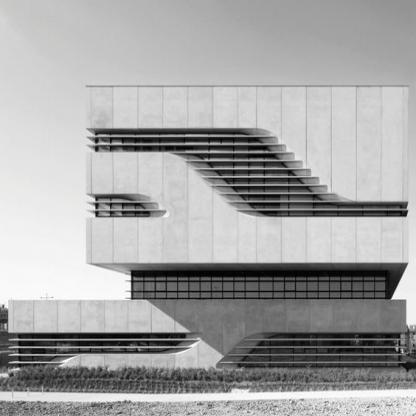Building Outline: (7, 85, 409, 384)
Facade: (7, 85, 410, 386)
Glass Wall: (95, 133, 401, 216), (131, 271, 387, 300), (18, 334, 184, 374), (239, 334, 400, 366), (95, 199, 150, 217)
